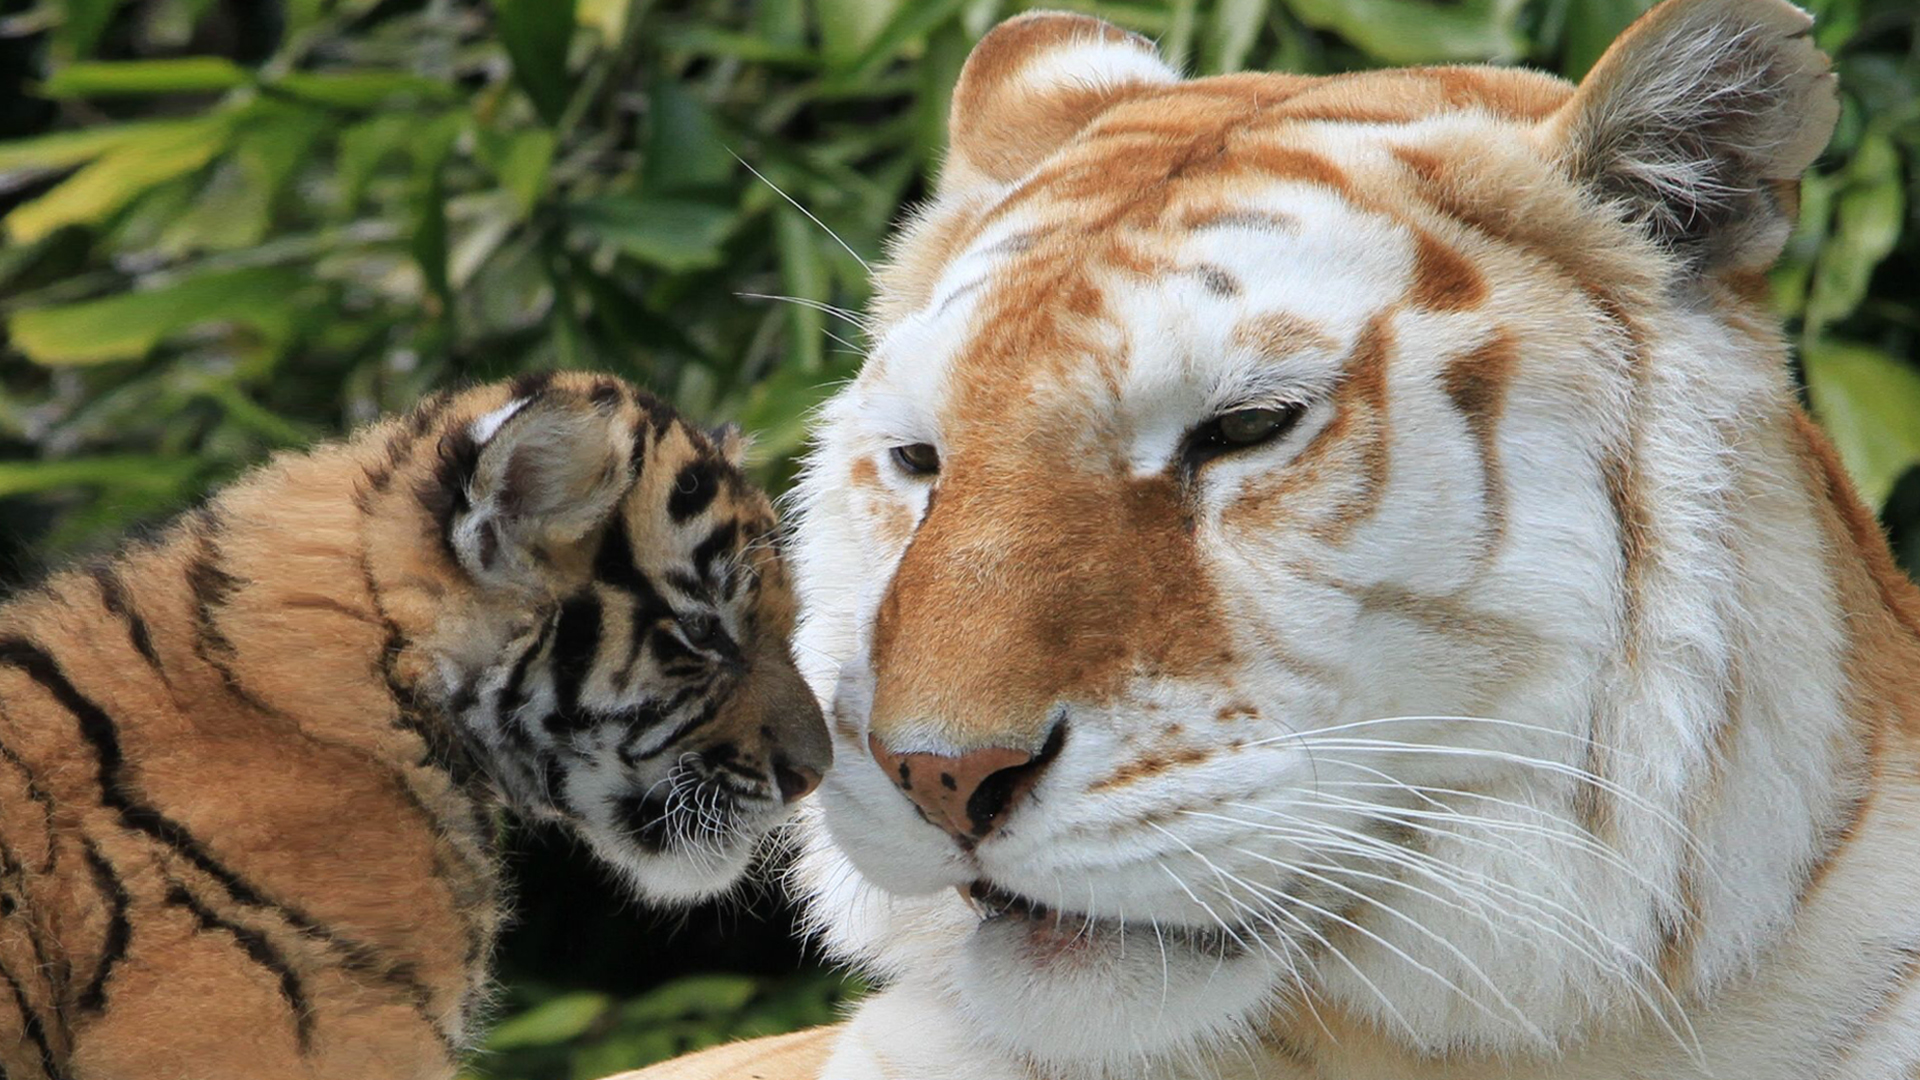Tiger: (756, 3, 1920, 1060), (4, 305, 844, 1080)
